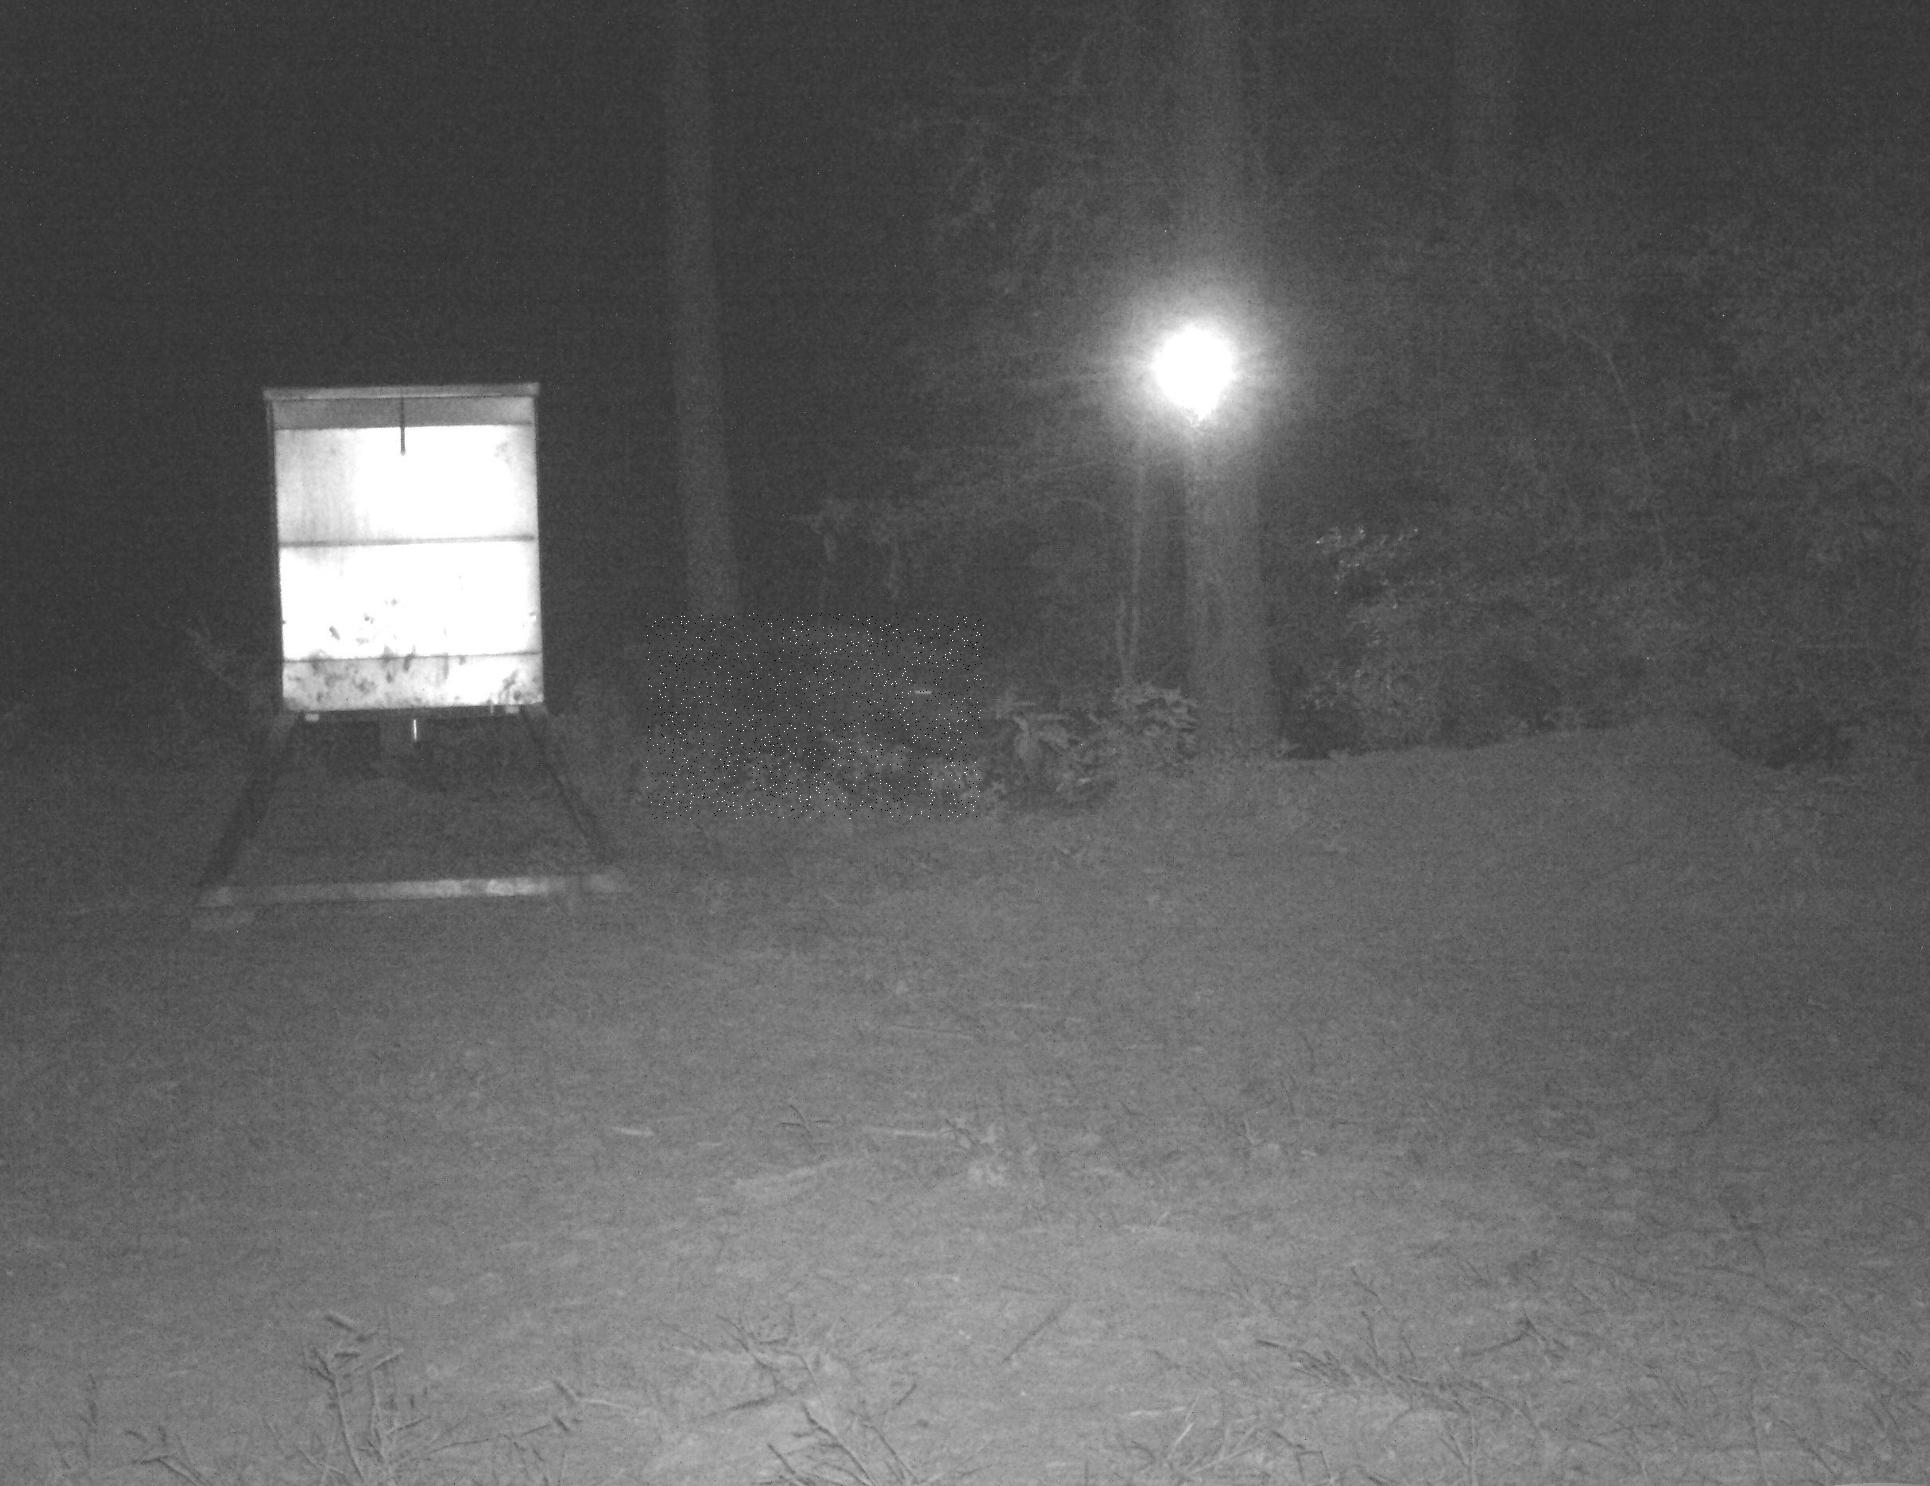Hog: (646, 613, 985, 819)
